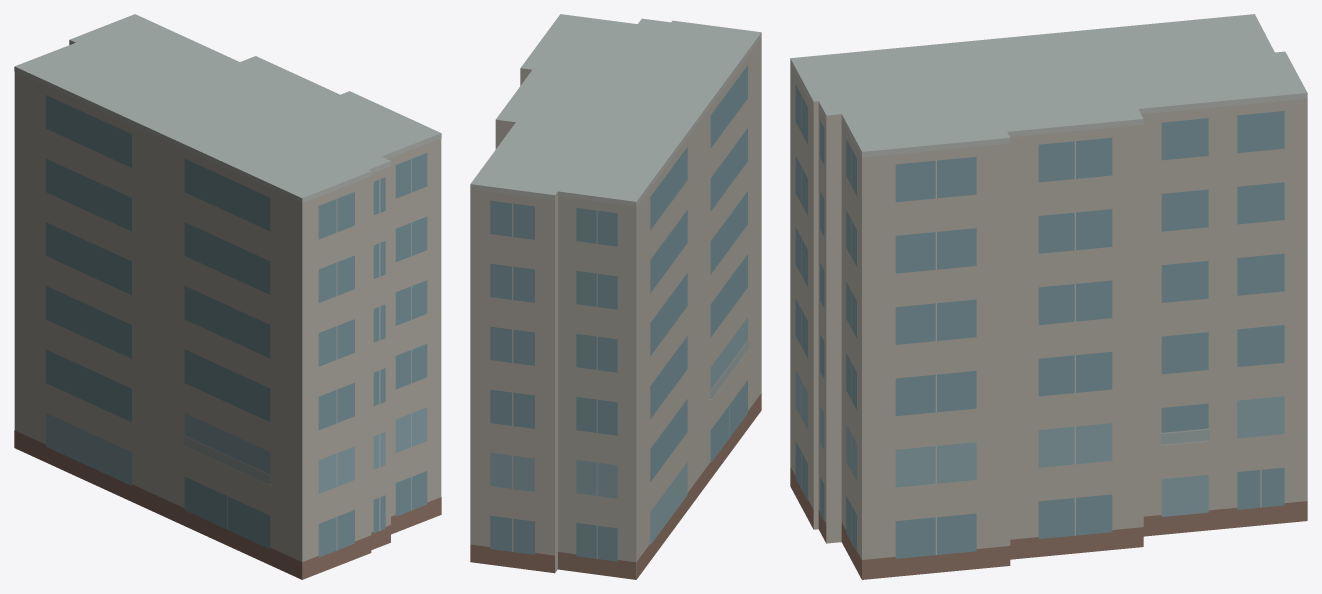
Rendered from survey-upis-32539982.glb.
3 renders of one model, left to right at view 1: azimuth 30°, elevation 25°; view 2: azimuth 150°, elevation 25°; view 3: azimuth 270°, elevation 25°, orthographic. The views are drawn at different scales.
Visible parts, largest first — view 1: survey-upis-32539982.tmp; view 2: survey-upis-32539982.tmp; view 3: survey-upis-32539982.tmp.
Part boxes in pixels (x1,y1,x2,y2): survey-upis-32539982.tmp: (14,14,441,579); survey-upis-32539982.tmp: (470,14,761,579); survey-upis-32539982.tmp: (790,14,1307,579).
Size of the model in its own units: 12.79 by 18.5 by 20.27.
